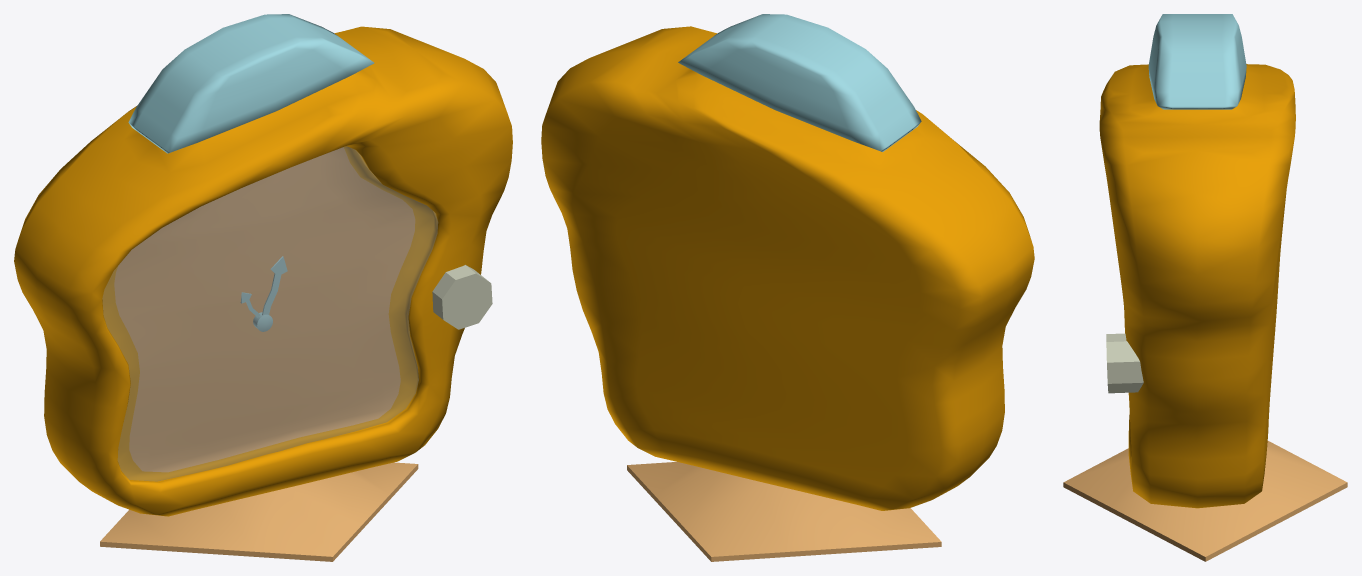
File: Alarm_Anim_02.fbx
The picture shows the model from 3 angles, left to right: view 1: azimuth 30°, elevation 25°; view 2: azimuth 150°, elevation 25°; view 3: azimuth 270°, elevation 25°; orthographic projection. The views are drawn at different scales.
Visible parts, largest first — view 1: alarmClock_Body, alarmClock_Snooze, alarmClock_Button; view 2: alarmClock_Body, alarmClock_Snooze; view 3: alarmClock_Body, alarmClock_Snooze, alarmClock_Button.
Part boxes in pixels (bbox=[...]): alarmClock_Body: bbox=[14, 26, 512, 561]; alarmClock_Snooze: bbox=[128, 14, 374, 153]; alarmClock_Button: bbox=[432, 265, 492, 329]; alarmClock_Body: bbox=[541, 26, 1034, 561]; alarmClock_Snooze: bbox=[678, 14, 921, 151]; alarmClock_Body: bbox=[1063, 64, 1347, 561]; alarmClock_Snooze: bbox=[1148, 14, 1246, 109]; alarmClock_Button: bbox=[1106, 333, 1143, 393].
Size of the model in its own units: 1078 by 1062 by 592.
